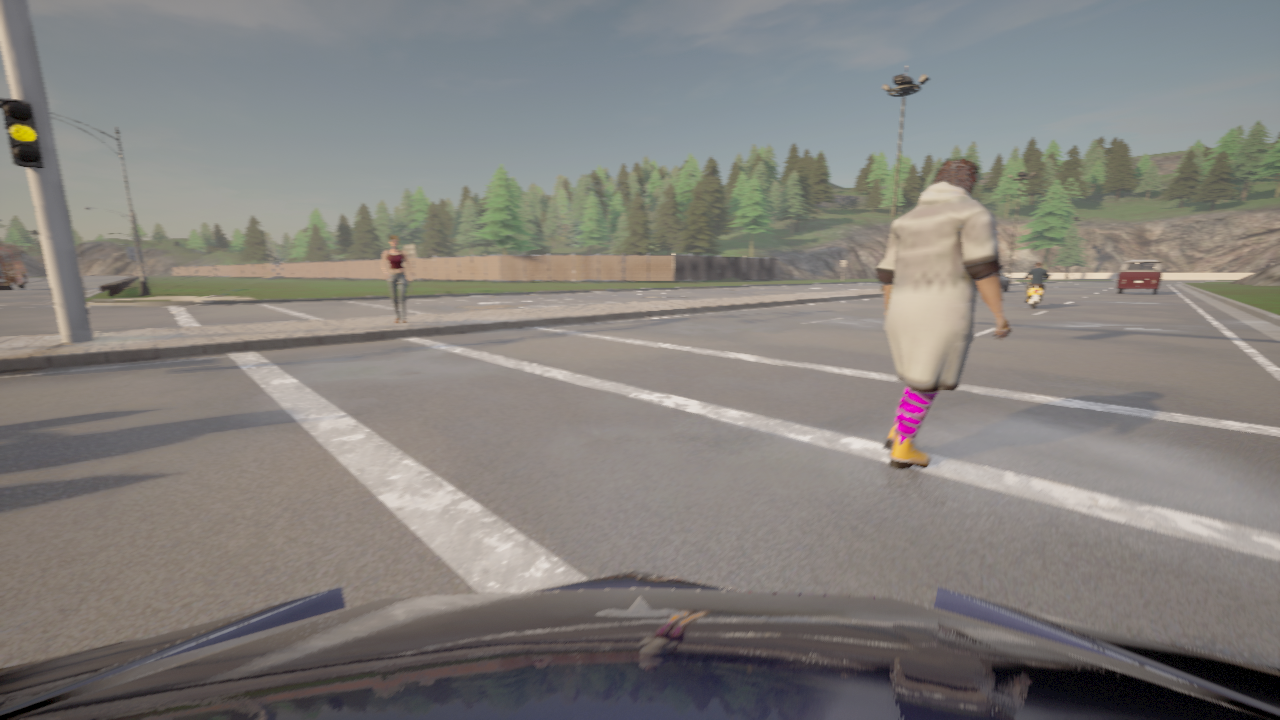cyclist: (0, 569, 1279, 719), (1116, 260, 1163, 294), (1022, 272, 1052, 308), (977, 270, 1009, 291)
pedestrian: (876, 157, 1010, 469), (382, 235, 411, 323)
